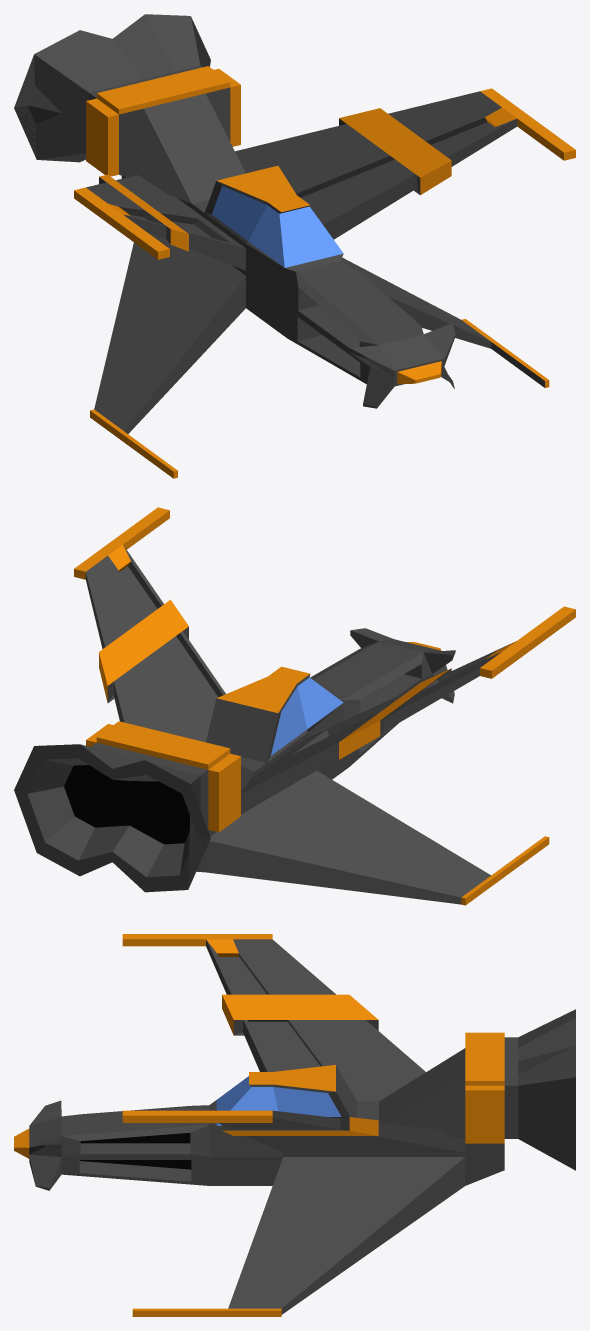
The model's file is LuminousGhost.glb.
3 views of the same model, one above another, from view 1: azimuth 30°, elevation 25°; view 2: azimuth 150°, elevation 25°; view 3: azimuth 270°, elevation 25° (orthographic). The views are drawn at different scales.
Parts seen in each view (by area): view 1: LuminousGhost; view 2: LuminousGhost; view 3: LuminousGhost.
Boxes of the visible parts, x1,y1,x2,y2 form: LuminousGhost: (14, 14, 575, 478); LuminousGhost: (14, 507, 575, 905); LuminousGhost: (14, 934, 575, 1316).
Size of the model in its own units: 15.44 by 8.33 by 20.18.
Materials: 1 (1 with a texture image).
